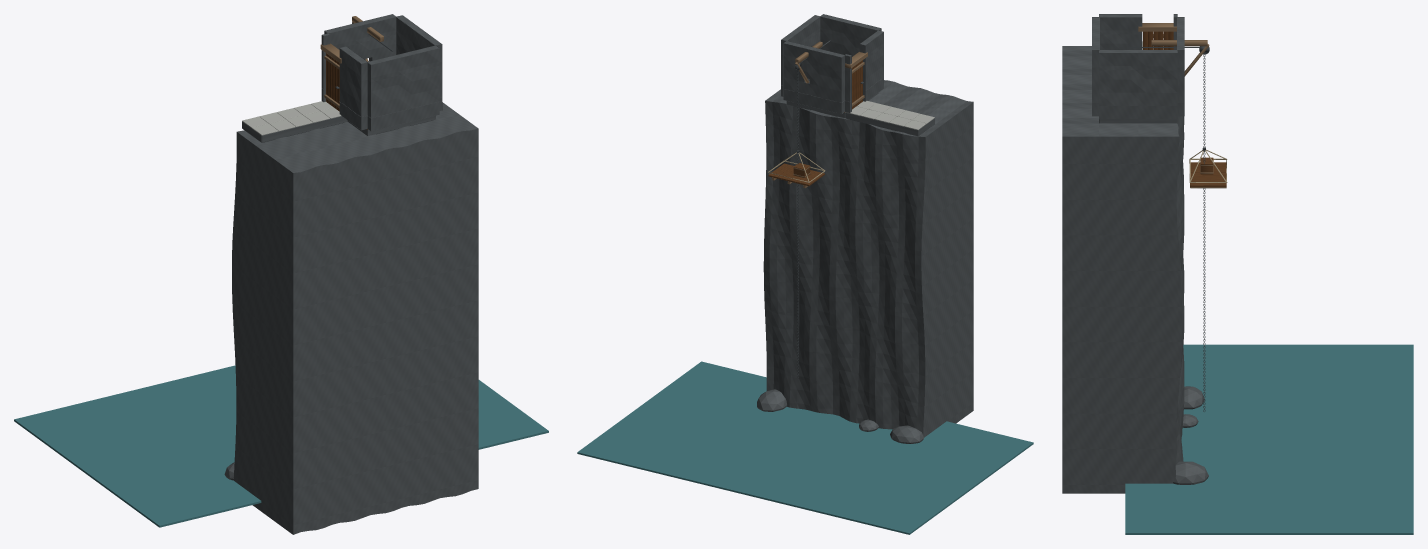
The model's file is retreat_global_a2.glb.
3 renders of one model, left to right at view 1: azimuth 30°, elevation 25°; view 2: azimuth 150°, elevation 25°; view 3: azimuth 270°, elevation 25°, orthographic. The views are drawn at different scales.
Parts seen in each view (by area): view 1: VTT_Bounded_Coastal_Cliff, VTT_Coastal_Water, North_Wall_Upper, CANON_Floor_West_Path, South_Wall_Upper, West_Wall_North_Upper, East_Wall_Upper, North_Wall_Base, CANON_Worn_Wooden_Door; view 2: VTT_Bounded_Coastal_Cliff, VTT_Coastal_Water, South_Wall_Upper, CANON_Floor_West_Path, North_Wall_Upper, West_Wall_North_Upper, East_Wall_Upper, CANON_Suspended_Wooden_Pallet, South_Wall_Base, VTT_Tide_Rock_1; view 3: VTT_Bounded_Coastal_Cliff, VTT_Coastal_Water, East_Wall_Upper, West_Wall_North_Upper, East_Wall_Base, CANON_Suspended_Wooden_Pallet, VTT_Tide_Rock_1, South_Wall_Upper, North_Wall_Upper, VTT_Chain_Guide_And_Pulley, CANON_Worn_Wooden_Door.
Boxes of the visible parts, x1,y1,x2,y2 form: VTT_Bounded_Coastal_Cliff: (232, 102, 478, 534); VTT_Coastal_Water: (14, 365, 548, 527); North_Wall_Upper: (367, 45, 439, 118); CANON_Floor_West_Path: (242, 101, 347, 142); South_Wall_Upper: (324, 14, 396, 61); West_Wall_North_Upper: (339, 46, 367, 116); East_Wall_Upper: (396, 15, 442, 97); North_Wall_Base: (367, 101, 439, 131); CANON_Worn_Wooden_Door: (324, 53, 339, 111); VTT_Bounded_Coastal_Cliff: (763, 80, 973, 437); VTT_Coastal_Water: (577, 361, 1033, 534); South_Wall_Upper: (783, 41, 844, 102); CANON_Floor_West_Path: (845, 101, 934, 136); North_Wall_Upper: (820, 14, 881, 56); West_Wall_North_Upper: (859, 30, 883, 90); East_Wall_Upper: (781, 15, 820, 85); CANON_Suspended_Wooden_Pallet: (767, 150, 825, 187); South_Wall_Base: (783, 89, 844, 114); VTT_Tide_Rock_1: (757, 389, 787, 411); VTT_Bounded_Coastal_Cliff: (1062, 46, 1184, 493); VTT_Coastal_Water: (1125, 344, 1413, 534); East_Wall_Upper: (1099, 50, 1177, 105); West_Wall_North_Upper: (1099, 14, 1142, 49); East_Wall_Base: (1099, 106, 1177, 119); CANON_Suspended_Wooden_Pallet: (1189, 147, 1227, 188); VTT_Tide_Rock_1: (1173, 461, 1208, 484); South_Wall_Upper: (1177, 17, 1184, 102); North_Wall_Upper: (1092, 17, 1099, 102); VTT_Chain_Guide_And_Pulley: (1151, 40, 1209, 76); CANON_Worn_Wooden_Door: (1143, 31, 1173, 49).
Bounding box in the file's own units: 17 × 18.25 × 13.4.
Materials: 7 (2 with a texture image).
